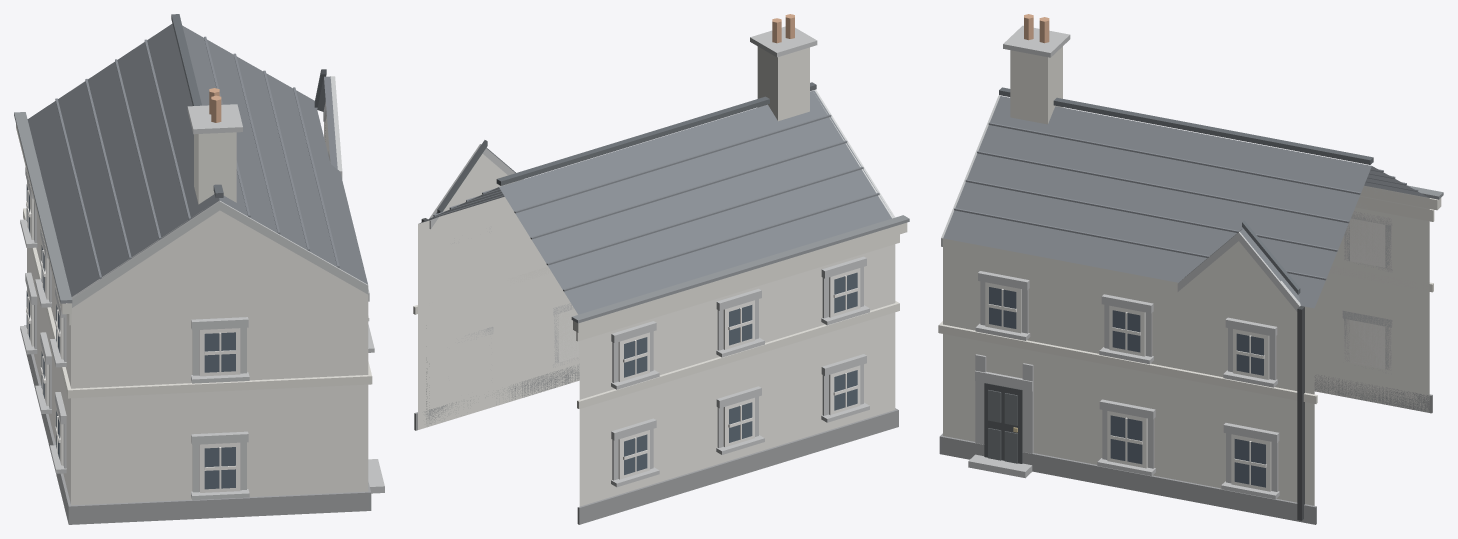
The picture shows the model from 3 angles, left to right: view 1: azimuth 30°, elevation 25°; view 2: azimuth 150°, elevation 25°; view 3: azimuth 270°, elevation 25°; orthographic projection. The views are drawn at different scales.
Visible parts, largest first — view 1: harl, slate, stone_band, plinth, slate_lt, string, frame, chim_render, lead, slate_dk, window_glass_012, window_glass_013; view 2: harl, slate, stone_band, string, plinth, frame, slate_lt, chim_render, lead, slate_dk, window_glass_006, window_glass_011 (+4 smaller); view 3: harl, slate, stone_band, plinth, frame, string, slate_lt, slate_dk, chim_render, door_dark_p, pipe, door_dark (+5 smaller).
Part boxes in pixels (x1=…): harl: x1=27, y1=116, x2=368, y2=505; slate: x1=27, y1=23, x2=367, y2=296; stone_band: x1=20, y1=76, x2=384, y2=500; plinth: x1=24, y1=325, x2=371, y2=524; slate_lt: x1=55, y1=36, x2=339, y2=278; string: x1=16, y1=124, x2=372, y2=398; frame: x1=26, y1=184, x2=369, y2=492; chim_render: x1=194, y1=132, x2=236, y2=204; lead: x1=14, y1=112, x2=72, y2=303; slate_dk: x1=171, y1=14, x2=326, y2=197; window_glass_012: x1=204, y1=447, x2=235, y2=489; window_glass_013: x1=204, y1=332, x2=235, y2=372; harl: x1=418, y1=154, x2=895, y2=506; slate: x1=419, y1=90, x2=891, y2=314; stone_band: x1=429, y1=26, x2=895, y2=487; string: x1=413, y1=222, x2=907, y2=408; plinth: x1=414, y1=364, x2=898, y2=524; frame: x1=559, y1=268, x2=860, y2=479; slate_lt: x1=433, y1=114, x2=879, y2=291; chim_render: x1=757, y1=46, x2=809, y2=121; lead: x1=571, y1=215, x2=909, y2=323; slate_dk: x1=437, y1=82, x2=816, y2=213; window_glass_006: x1=624, y1=434, x2=647, y2=474; window_glass_011: x1=834, y1=272, x2=857, y2=313; harl: x1=943, y1=185, x2=1429, y2=505; slate: x1=943, y1=96, x2=1428, y2=308; stone_band: x1=941, y1=25, x2=1392, y2=499; plinth: x1=939, y1=375, x2=1432, y2=524; frame: x1=985, y1=218, x2=1385, y2=491; string: x1=938, y1=186, x2=1441, y2=403; slate_lt: x1=954, y1=122, x2=1418, y2=280; slate_dk: x1=999, y1=87, x2=1373, y2=294; chim_render: x1=1010, y1=46, x2=1062, y2=124; door_dark_p: x1=988, y1=390, x2=1017, y2=463; pipe: x1=1297, y1=306, x2=1304, y2=520; door_dark: x1=984, y1=383, x2=1022, y2=463.
Size of the model in its own units: 10.34 by 9.9 by 11.71.
